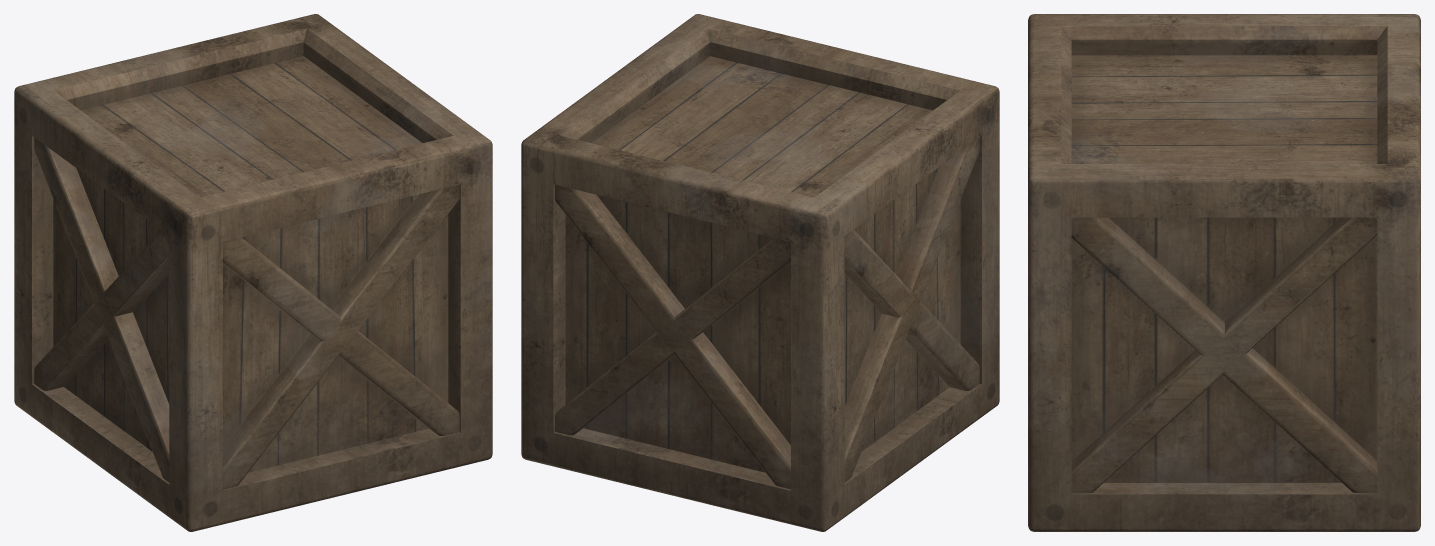
3 renders of one model, left to right at view 1: azimuth 30°, elevation 25°; view 2: azimuth 150°, elevation 25°; view 3: azimuth 270°, elevation 25°, orthographic. The views are drawn at different scales.
Parts seen in each view (by area): view 1: crate; view 2: crate; view 3: crate.
Part boxes in pixels (bbox=[...]): crate: bbox=[14, 14, 492, 531]; crate: bbox=[521, 14, 999, 531]; crate: bbox=[1028, 14, 1420, 531].
Bounding box in the file's own units: 2 × 2 × 2.
Materials: 1 (1 with a texture image).
